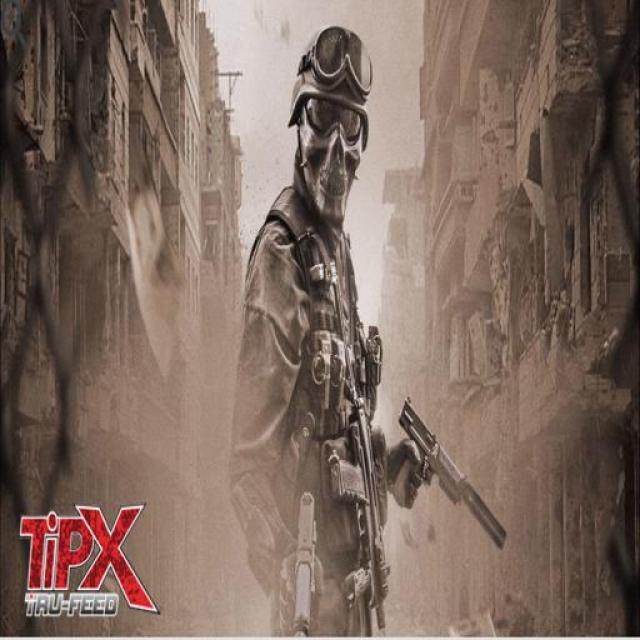pistol: (389, 390, 465, 506), (286, 482, 318, 635)
